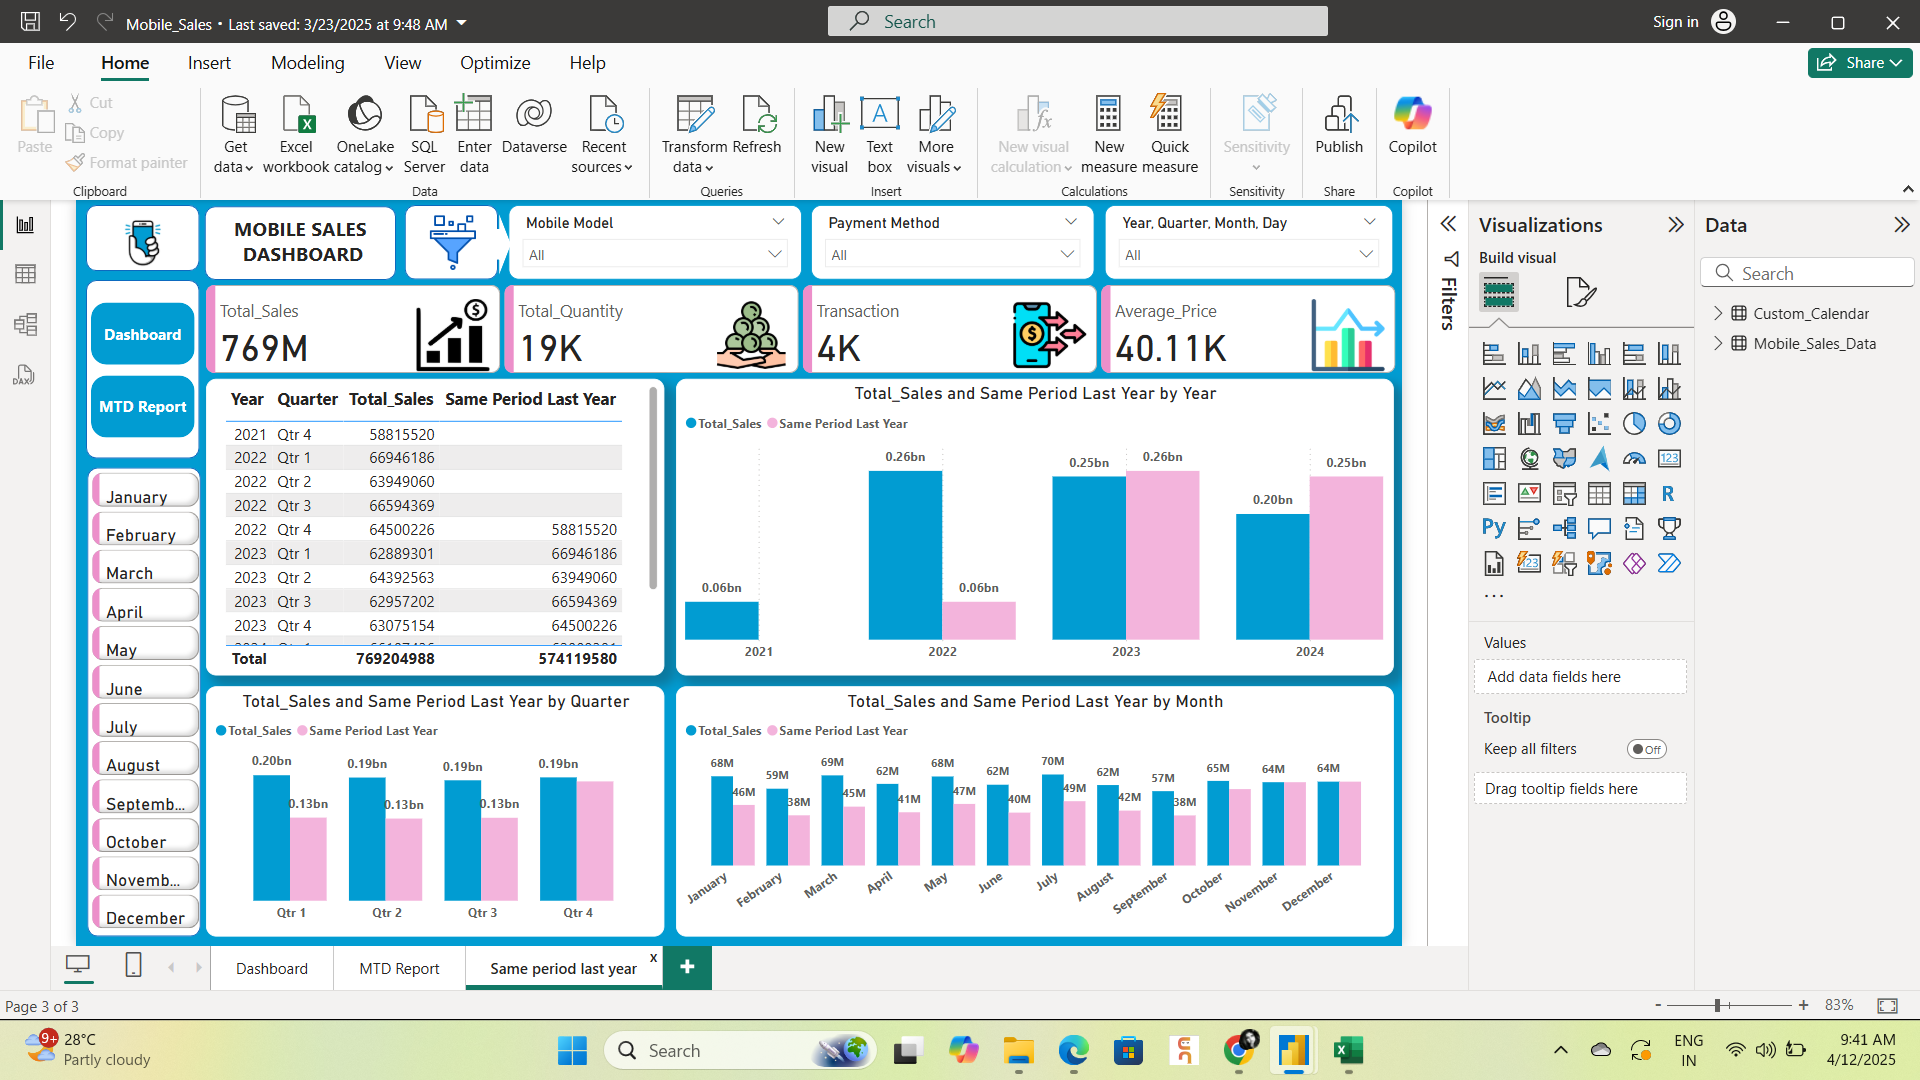

The dashboard page shown, as its layout file describes it:
{"tool":"powerbi","page":{"name":"Same period last year","canvas":[1280,720],"ordinal":2},"visuals":[{"type":"shape","box":[9.7,4.8,109.8,63.9],"z":0},{"type":"image","box":[31.4,4.8,66.4,72.4],"z":1000},{"type":"shape","box":[9.7,77.2,109.8,172.5],"z":2000},{"type":"shape","box":[10.9,258.2,109.8,452.4],"z":3000},{"type":"advancedSlicerVisual","fields":{"Values":["Custom_Calendar.Date.Variation.Date Hierarchy.Month"]},"box":[10.9,258.2,113.4,452.4],"z":4000},{"type":"cardVisual","fields":{"Data":["Mobile_Sales_Data.Total_Sales","Mobile_Sales_Data.Total_Quantity","Mobile_Sales_Data.Transaction","Mobile_Sales_Data.Average_Price"]},"box":[120.6,77.2,1159.4,95.3],"z":5000},{"type":"slicer","fields":{"Values":["Mobile_Sales_Data.Mobile Model"]},"box":[417.4,4.8,283.5,72.4],"z":6000},{"type":"slicer","fields":{"Values":["Custom_Calendar.Date.Variation.Date Hierarchy.Year","Custom_Calendar.Date.Variation.Date Hierarchy.Quarter","Custom_Calendar.Date.Variation.Date Hierarchy.Month","Custom_Calendar.Date.Variation.Date Hierarchy.Day"]},"box":[992.9,4.8,278.7,72.4],"z":7000},{"type":"slicer","fields":{"Values":["Mobile_Sales_Data.Payment Method"]},"box":[709.4,4.8,273.9,72.4],"z":8000},{"type":"shape","box":[317.3,4.8,90.5,72.4],"z":9000},{"type":"image","box":[331.8,6,63.9,71.2],"z":10000},{"type":"shape","box":[396.9,13.3,22.9,59.1],"z":11000},{"type":"shape","box":[124.3,6,184.6,71.2],"z":12000},{"type":"textbox","box":[139.9,9.7,153.2,65.1],"z":13000},{"type":"tableEx","fields":{"Values":["Custom_Calendar.Date.Variation.Date Hierarchy.Year","Custom_Calendar.Date.Variation.Date Hierarchy.Quarter","Mobile_Sales_Data.Total_Sales","Mobile_Sales_Data.Same Period Last Year"]},"box":[125,172.5,442.5,286],"z":14000},{"type":"clusteredColumnChart","fields":{"Y":["Mobile_Sales_Data.Total_Sales","Mobile_Sales_Data.Same Period Last Year"],"Category":["Custom_Calendar.Date.Variation.Date Hierarchy.Year","Custom_Calendar.Date.Variation.Date Hierarchy.Quarter"]},"box":[578.8,172.5,692.5,286.2],"z":15000},{"type":"clusteredColumnChart","fields":{"Y":["Mobile_Sales_Data.Total_Sales","Mobile_Sales_Data.Same Period Last Year"],"Category":["Custom_Calendar.Date.Variation.Date Hierarchy.Year","Custom_Calendar.Date.Variation.Date Hierarchy.Quarter","Custom_Calendar.Date.Variation.Date Hierarchy.Month","Custom_Calendar.Date.Variation.Date Hierarchy.Day"]},"box":[125,468.8,442.5,241.2],"z":16000},{"type":"clusteredColumnChart","fields":{"Y":["Mobile_Sales_Data.Total_Sales","Mobile_Sales_Data.Same Period Last Year"],"Category":["Custom_Calendar.Date.Variation.Date Hierarchy.Year","Custom_Calendar.Date.Variation.Date Hierarchy.Quarter","Custom_Calendar.Date.Variation.Date Hierarchy.Month","Custom_Calendar.Date.Variation.Date Hierarchy.Day"]},"box":[578.8,468.8,692.5,241.2],"z":17000},{"type":"pageNavigator","box":[139.9,266.6,599.6,49.5],"z":18000},{"type":"pageNavigator","box":[14.5,98.9,100.1,130.3],"z":18001}]}

Visuals, with their boxes on the page's 1280x720 design canvas (x1, y1, x2, y2). These are canvas units, not pixel positions in the 1920x1080 screenshot, which may show the page scaled, cropped or inside an application window:
shape: 10/5/120/69
image: 31/5/98/77
shape: 10/77/120/250
shape: 11/258/121/711
advancedSlicerVisual - Custom_Calendar.Date.Variation.Date Hierarchy.Month: 11/258/124/711
cardVisual - Mobile_Sales_Data.Total_Sales x Mobile_Sales_Data.Total_Quantity: 121/77/1280/172
slicer - Mobile_Sales_Data.Mobile Model: 417/5/701/77
slicer - Custom_Calendar.Date.Variation.Date Hierarchy.Year x Custom_Calendar.Date.Variation.Date Hierarchy.Quarter: 993/5/1272/77
slicer - Mobile_Sales_Data.Payment Method: 709/5/983/77
shape: 317/5/408/77
image: 332/6/396/77
shape: 397/13/420/72
shape: 124/6/309/77
textbox: 140/10/293/75
tableEx - Custom_Calendar.Date.Variation.Date Hierarchy.Year x Custom_Calendar.Date.Variation.Date Hierarchy.Quarter: 125/172/568/458
clusteredColumnChart - Mobile_Sales_Data.Total_Sales x Mobile_Sales_Data.Same Period Last Year: 579/172/1271/459
clusteredColumnChart - Mobile_Sales_Data.Total_Sales x Mobile_Sales_Data.Same Period Last Year: 125/469/568/710
clusteredColumnChart - Mobile_Sales_Data.Total_Sales x Mobile_Sales_Data.Same Period Last Year: 579/469/1271/710
pageNavigator: 140/267/740/316
pageNavigator: 14/99/115/229
